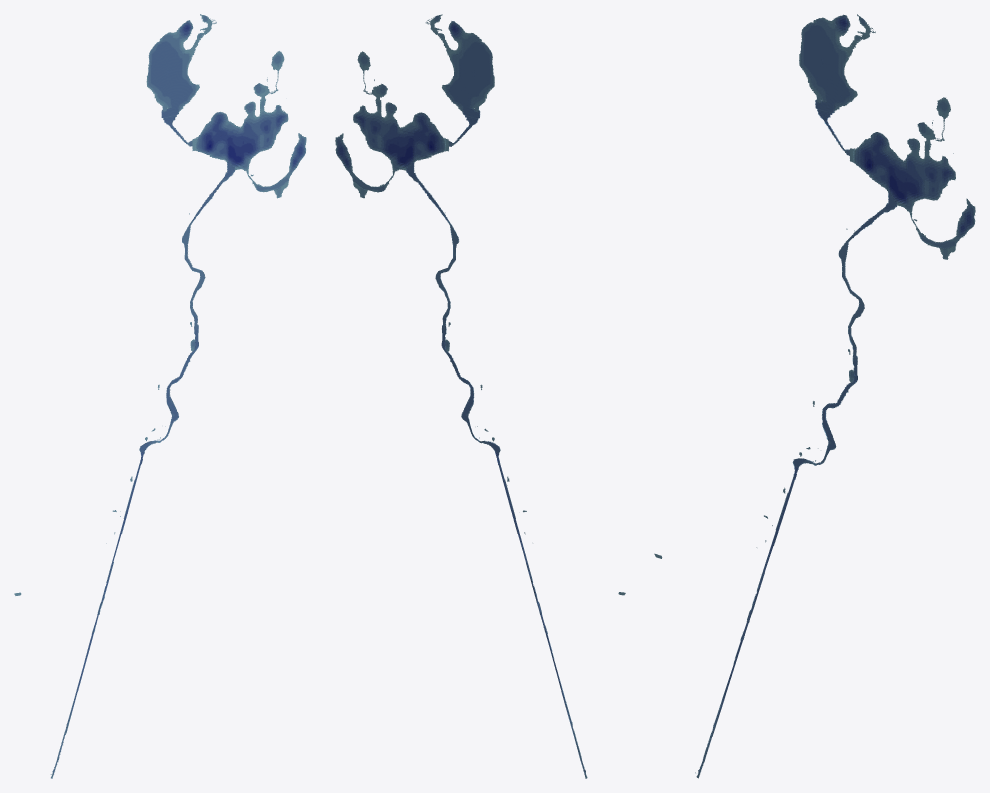
The model's file is triangle_mesh.glb.
3 renders of one model, left to right at view 1: azimuth 30°, elevation 25°; view 2: azimuth 150°, elevation 25°; view 3: azimuth 330°, elevation 25°, orthographic. The views are drawn at different scales.
Visible parts, largest first — view 1: world; view 2: world; view 3: world.
Part boxes in pixels (left/top/right/bottom): world: left=14, top=14, right=306, bottom=778; world: left=335, top=14, right=625, bottom=778; world: left=654, top=14, right=975, bottom=778.
Size of the model in its own units: 1147 by 2739 by 13.93.
